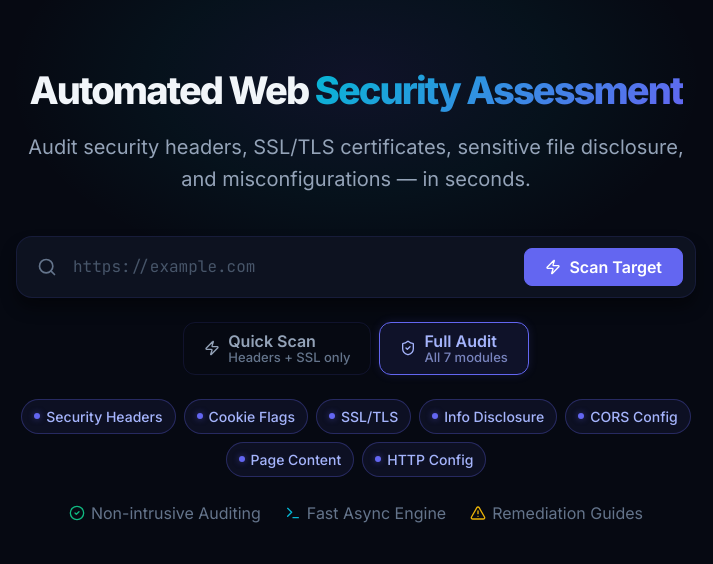
Test: ScanPage › shows an error and does not scan when the URL is empty
Click the button "Scan Target": (604, 267) [524,248,683,286]
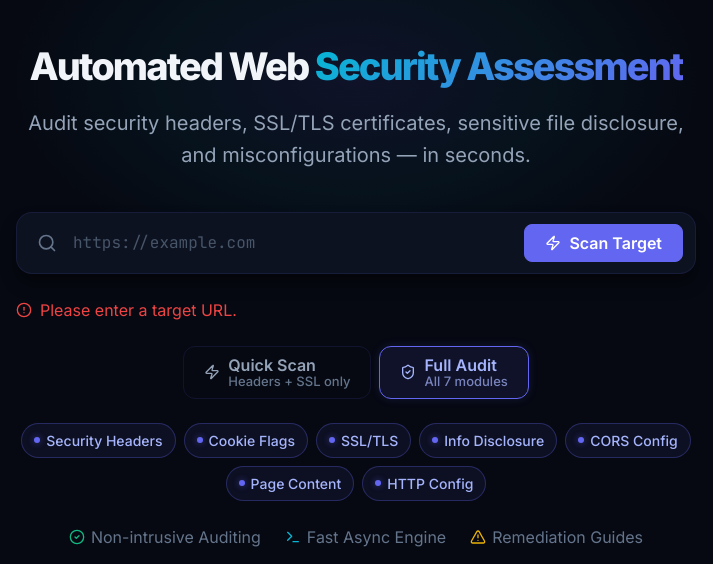
Now the text "Please enter a target URL." is shown, box [16,300,237,320]
